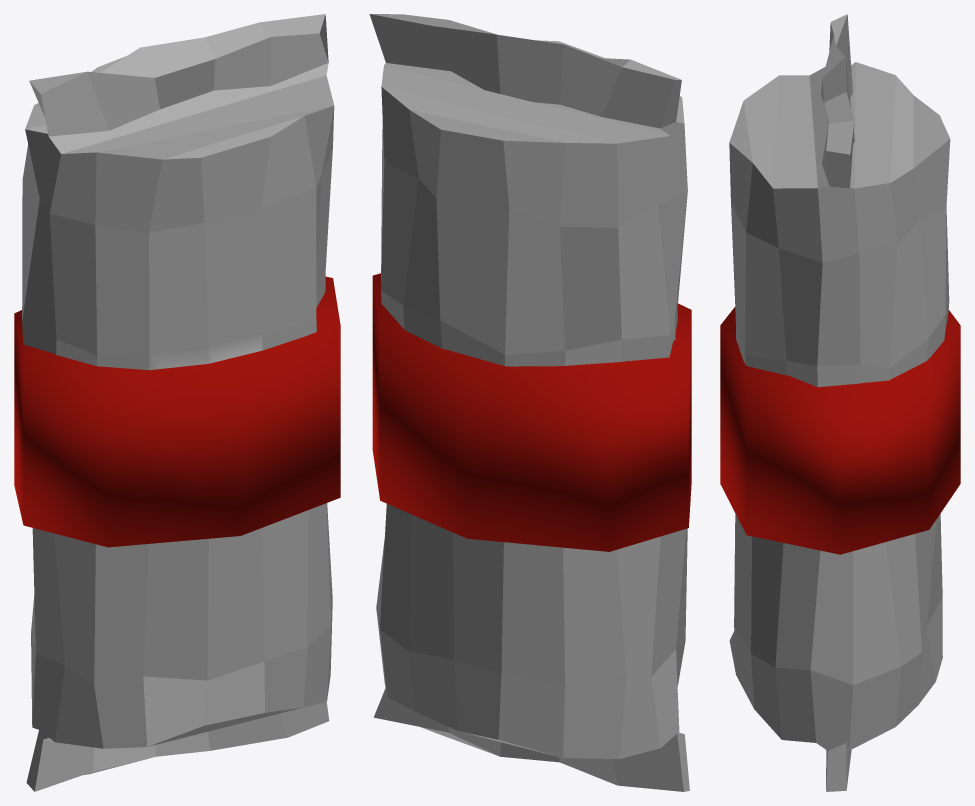
The model's file is Bandage.glb.
3 renders of one model, left to right at view 1: azimuth 30°, elevation 25°; view 2: azimuth 150°, elevation 25°; view 3: azimuth 270°, elevation 25°, orthographic. The views are drawn at different scales.
Visible parts, largest first — view 1: SM_Bandage, BandageHolder; view 2: SM_Bandage, BandageHolder; view 3: SM_Bandage, BandageHolder.
Part boxes in pixels (box(x1,y1,x2,y2)): SM_Bandage: box(22, 14, 334, 791); BandageHolder: box(14, 276, 340, 547); SM_Bandage: box(369, 14, 689, 791); BandageHolder: box(372, 273, 691, 551); SM_Bandage: box(729, 14, 950, 791); BandageHolder: box(720, 307, 960, 554).
Size of the model in its own units: 0.0744 by 0.1644 by 0.0542.
